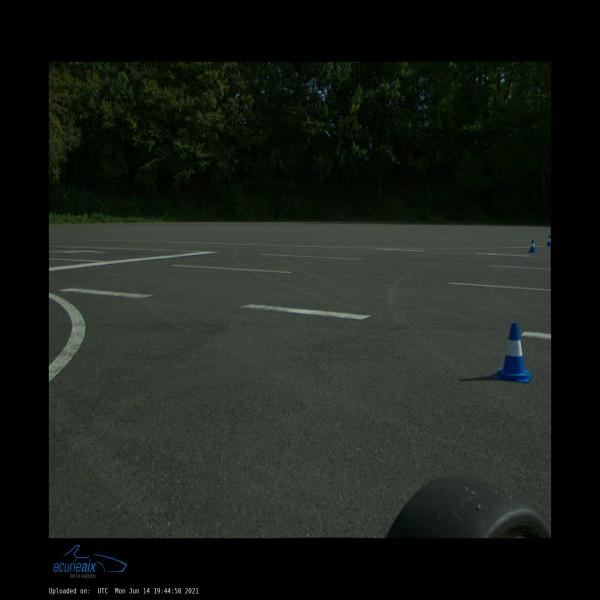blue_cone: (495, 323, 531, 382), (528, 239, 537, 253), (546, 235, 551, 246)
